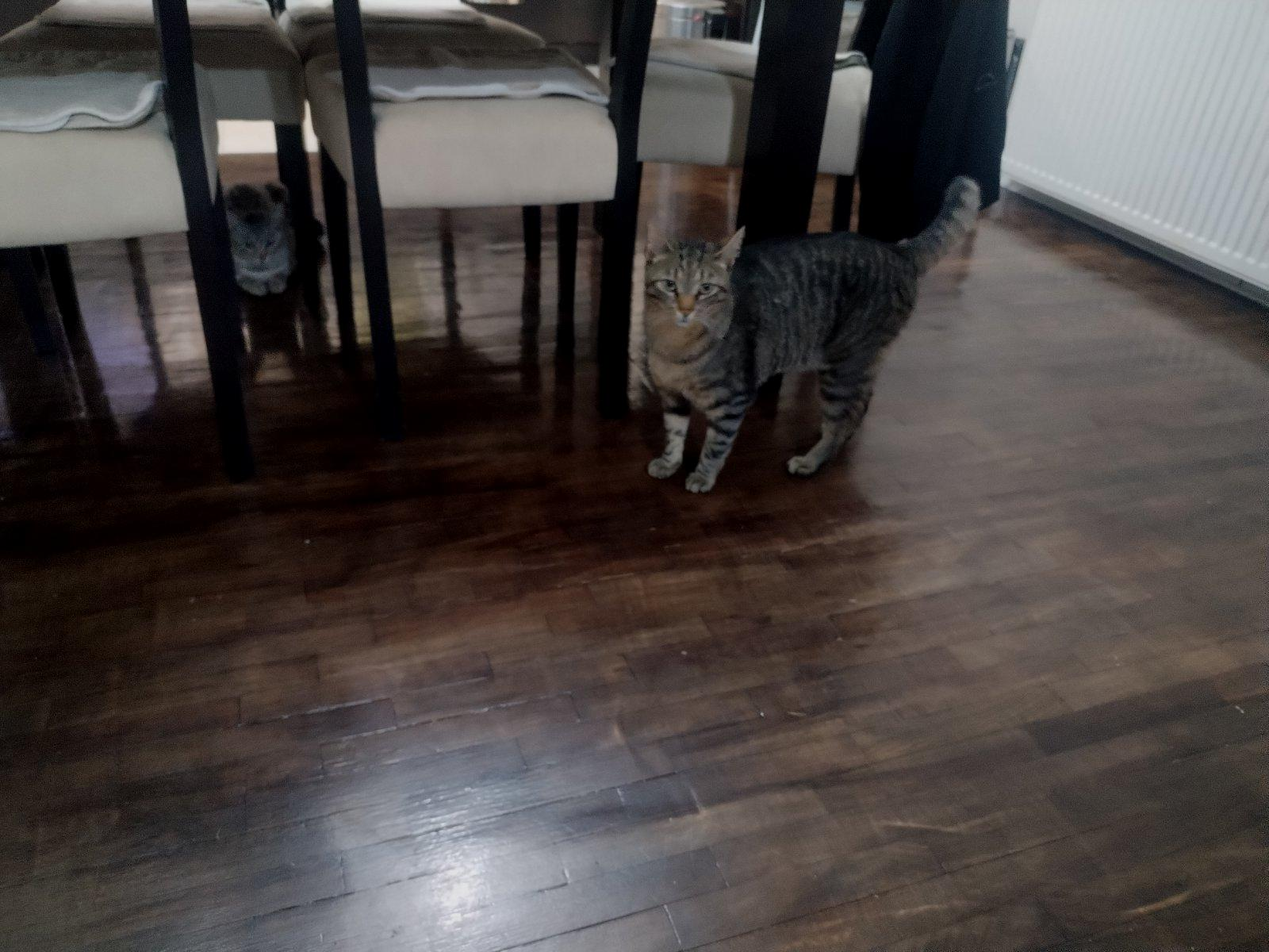macka: (640, 177, 983, 496), (210, 180, 298, 298)
